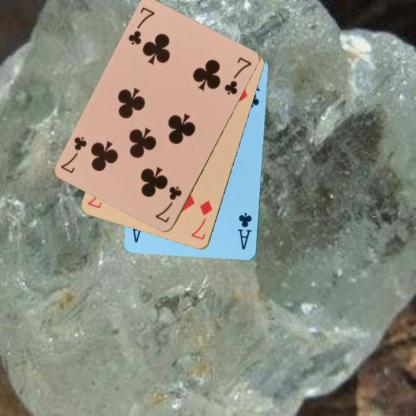7c: (125, 4, 156, 46), (153, 184, 183, 224)
7d: (188, 198, 214, 242)
Ac: (235, 210, 253, 251)
